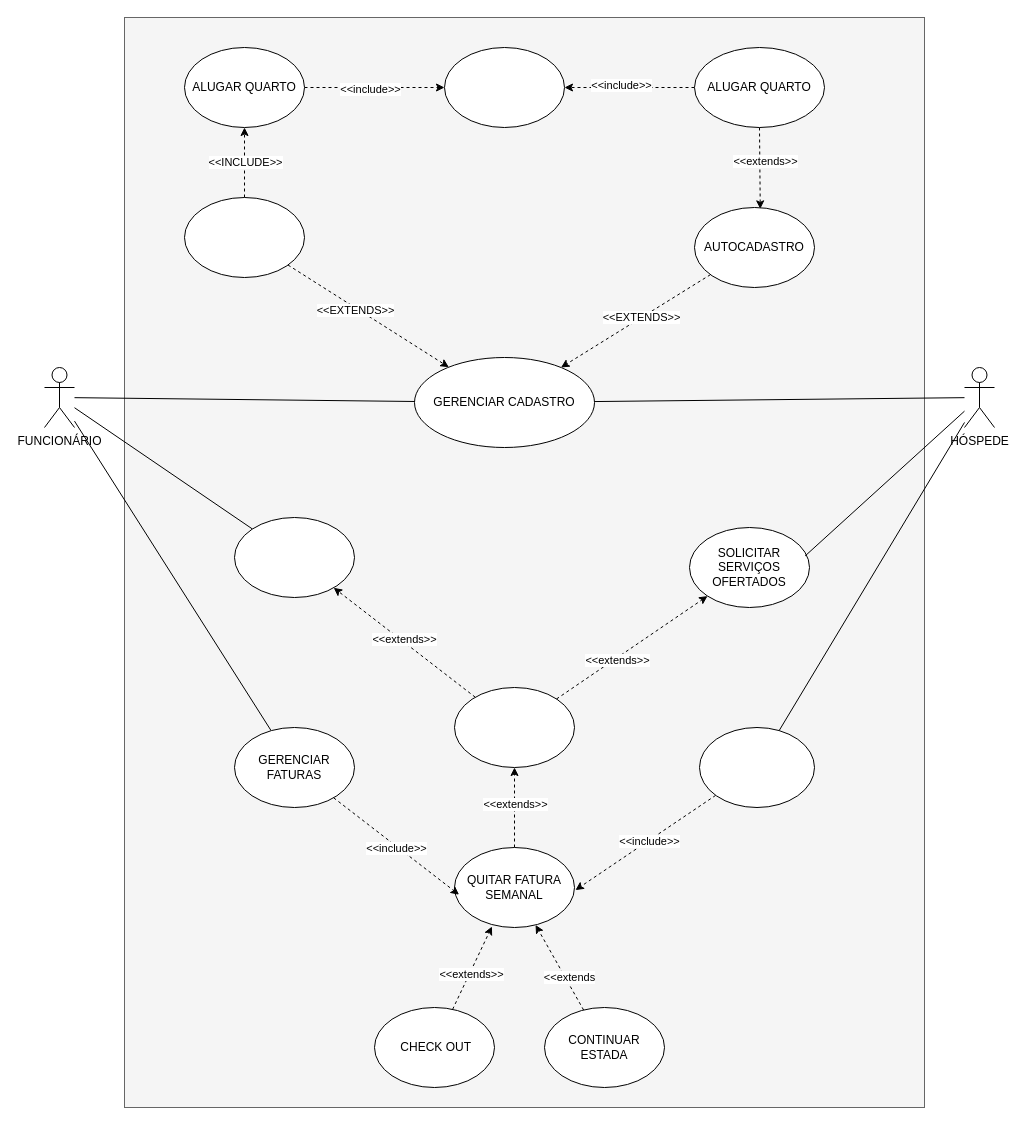
Some shapes in this 1026 by 1125 pixel diagram are drawn without their labels. The centre of each missing label's shape, as x and y in pixels:
CADASTRAR HOSPEDE: [244,237]
ENCERRAR ESTADA CHECK OUT: [756,767]
GERENCIA DOS SERVIÇOS OFERTADOS: [294,557]
Gerenciar consumo: [514,727]
VERIFICAR VAGA: [504,87]
